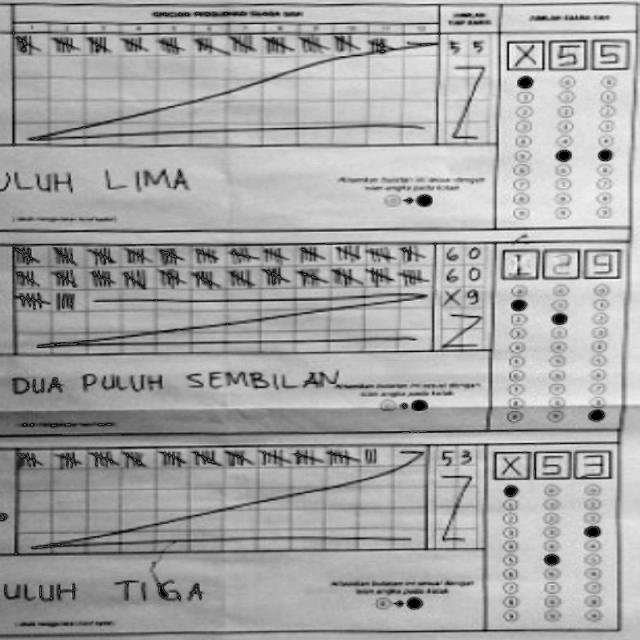Suara: (498, 242, 624, 282), (500, 34, 630, 72), (489, 449, 614, 481)
